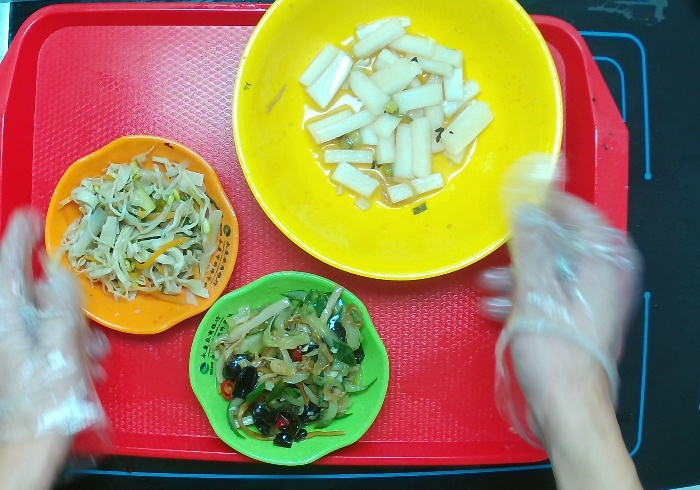YKMZ-Huang_Se_Tang_Wan: (229, 1, 566, 279)
YKMZ-Ju_Se_Ao_Bian_Wan: (42, 134, 241, 336)
YKMZ-Lv_Se_Ao_Bian_Wan: (186, 268, 394, 468)
